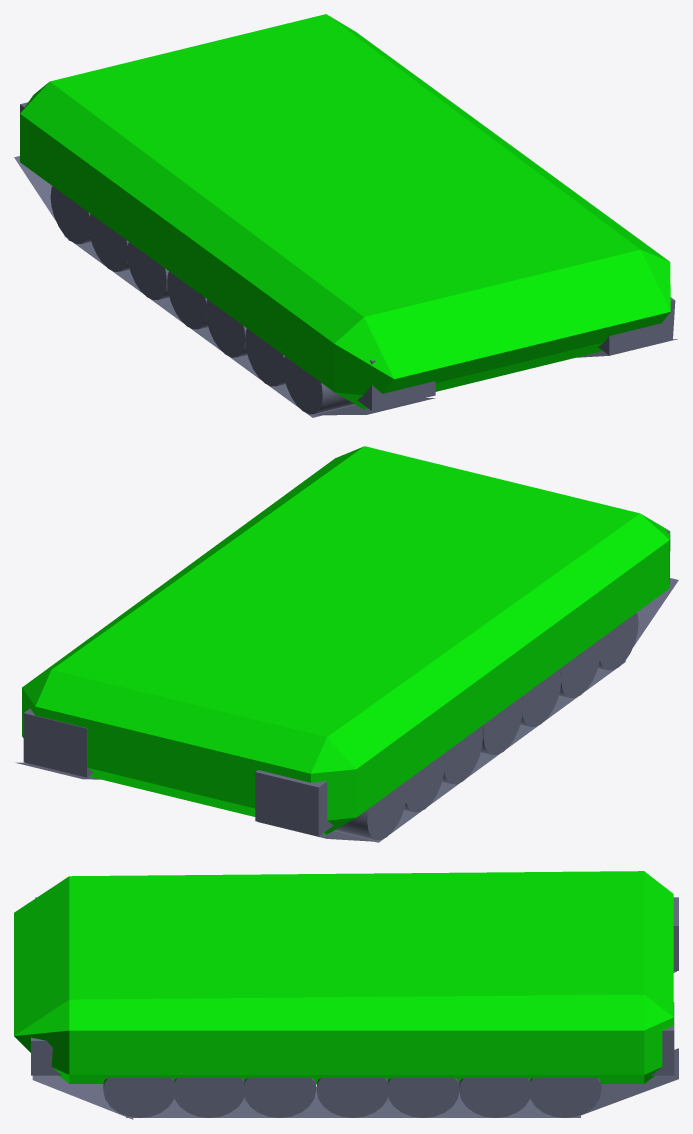
File: Body.fbx
3 views of the same model, one above another, from view 1: azimuth 30°, elevation 25°; view 2: azimuth 150°, elevation 25°; view 3: azimuth 270°, elevation 25° (orthographic). The views are drawn at different scales.
Visible parts, largest first — view 1: Body; view 2: Body; view 3: Body.
Boxes of the visible parts, left/top/right/bottom form: Body: left=14, top=14, right=677, bottom=417; Body: left=15, top=446, right=678, bottom=842; Body: left=14, top=871, right=678, bottom=1119.
Bounding box in the file's own units: 1.61 × 0.5852 × 3.01.
